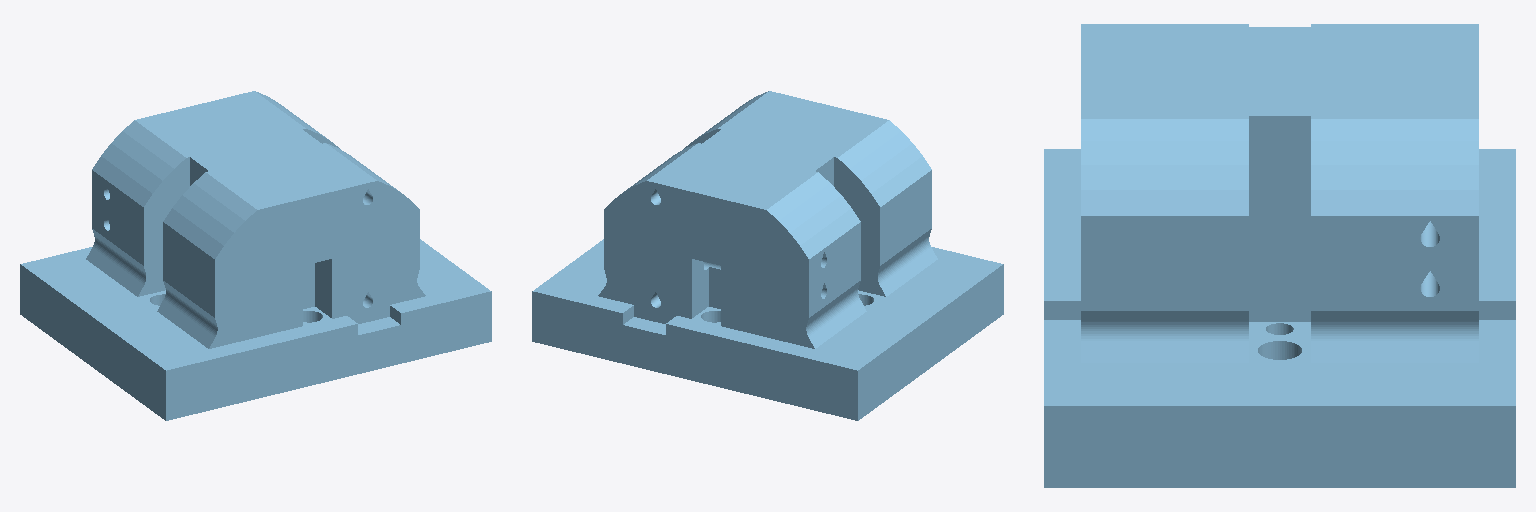
URDF robot description (left_final_assembly_orcaxopenarm):
<!--URDF generated by ONSHAPE BY PTC INC, 1.218-->
<robot name="left_final_assembly_orcaxopenarm">
    <link name="root">
        <visual>
            <origin xyz="-0.188187 -0.0696202 -0.104346" rpy="0 -0 0" />
            <geometry>
                <mesh filename="package://left_final_assembly_orcaxopenarm/meshes/LEFT_PIECE.stl" scale="1 1 1" />
            </geometry>
            <material name="0.615686_0.811765_0.929412_0.000000_0.000000">
                <color rgba="0.615686 0.811765 0.929412 1" />
            </material>
        </visual>
    </link>
</robot>

--- Facts derived from the render (not from the file) ---
3 views of the same robot in one strip: view 1: azimuth 30°, elevation 25°; view 2: azimuth 150°, elevation 25°; view 3: azimuth 270°, elevation 25° (orthographic).
Model left_final_assembly_orcaxopenarm with 1 links and 0 joints (none), rooted at root, posed all joints at 0.
Visible links, largest first — view 1: root; view 2: root; view 3: root.
Link boxes in pixels (x1,y1,x2,y2): root: [20, 91, 491, 420]; root: [532, 91, 1003, 420]; root: [1044, 24, 1515, 487].
Size in the robot's own frame: 0.0872 by 0.0675 by 0.0455 metres.
Meshes: 1 distinct files referenced, 1 mesh visuals loaded (1 binary STL).
